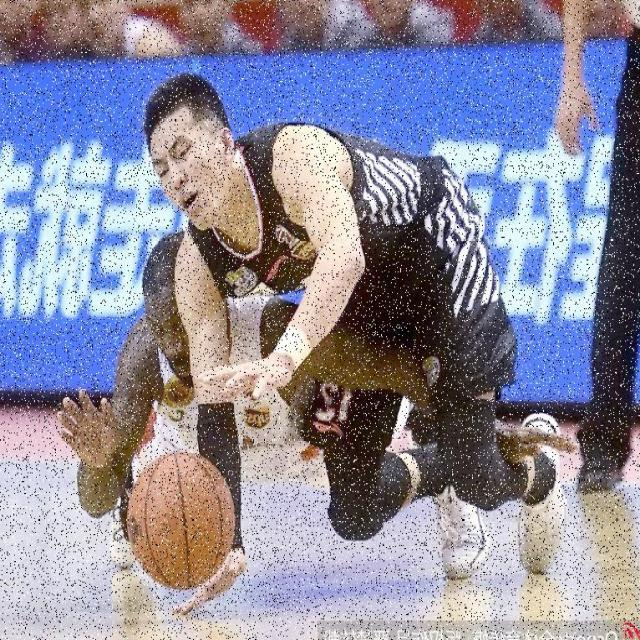fall: (152, 84, 555, 562)
